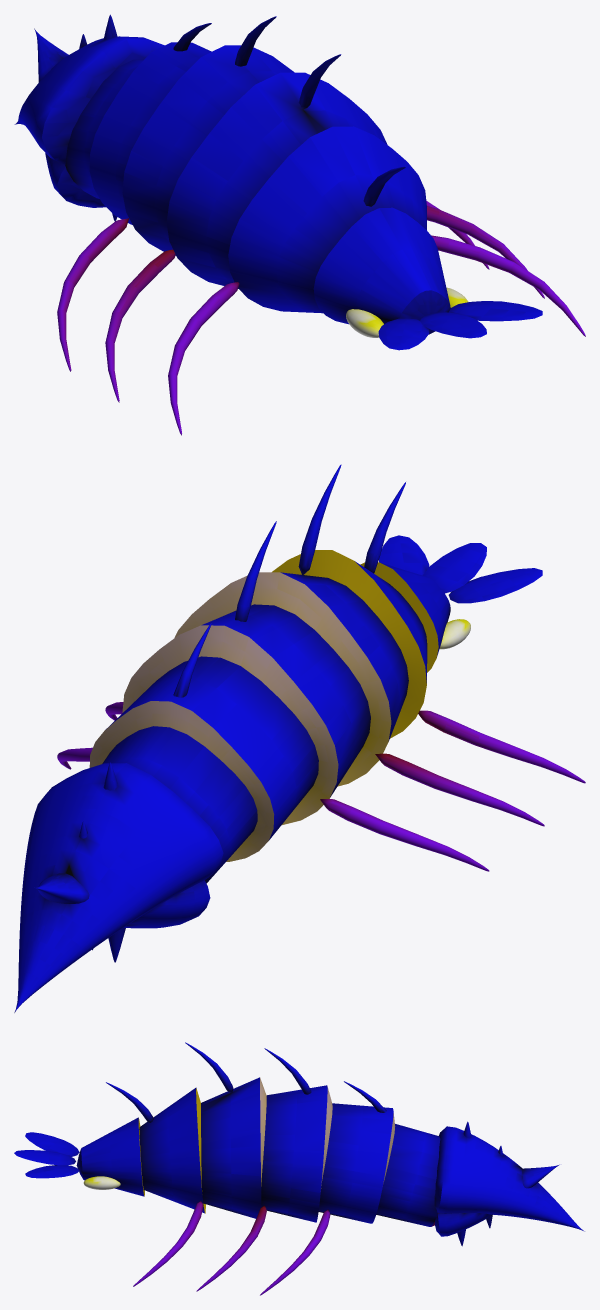
File: craigon_scuttler_corvette.fbx
The picture shows the model from 3 angles, top to bottom: view 1: azimuth 30°, elevation 25°; view 2: azimuth 150°, elevation 25°; view 3: azimuth 270°, elevation 25°; orthographic projection. The views are drawn at different scales.
Parts seen in each view (by area): view 1: craigon_scuttler_corvette; view 2: craigon_scuttler_corvette; view 3: craigon_scuttler_corvette.
Boxes of the visible parts, box(x1,y1,x2,y2) form: craigon_scuttler_corvette: box(14, 14, 585, 435); craigon_scuttler_corvette: box(14, 464, 585, 1012); craigon_scuttler_corvette: box(14, 1042, 584, 1295).
Bounding box in the file's own units: 0.7987 × 0.5968 × 1.51.
